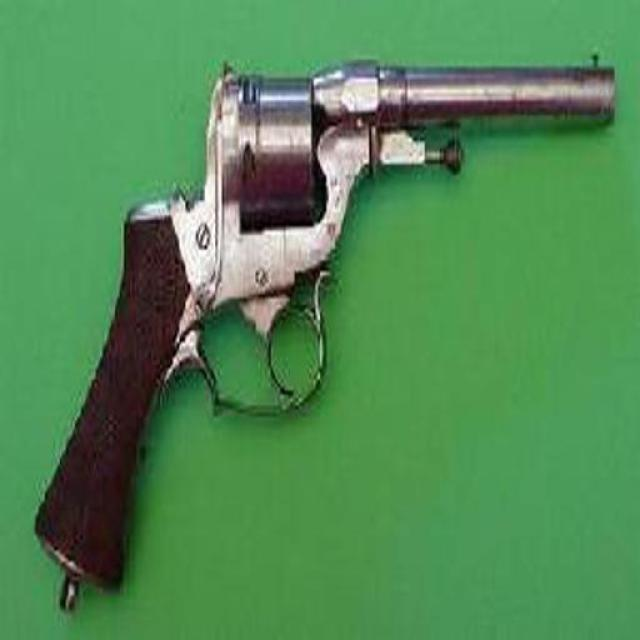pistol: (31, 47, 613, 595)
